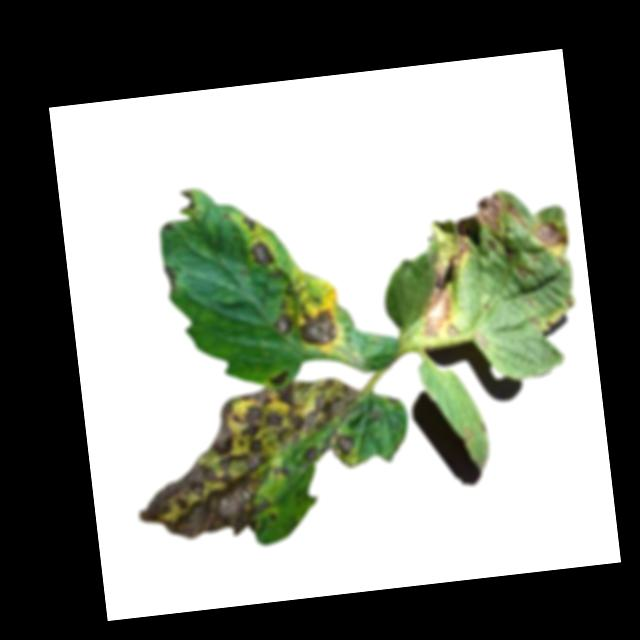Early_blight: (125, 374, 376, 547), (413, 262, 461, 341), (473, 189, 530, 235), (299, 308, 342, 347), (532, 218, 567, 250), (249, 238, 276, 268), (272, 313, 295, 336), (162, 260, 178, 293), (266, 367, 290, 386), (177, 189, 195, 209), (241, 214, 254, 231), (515, 263, 529, 278)
